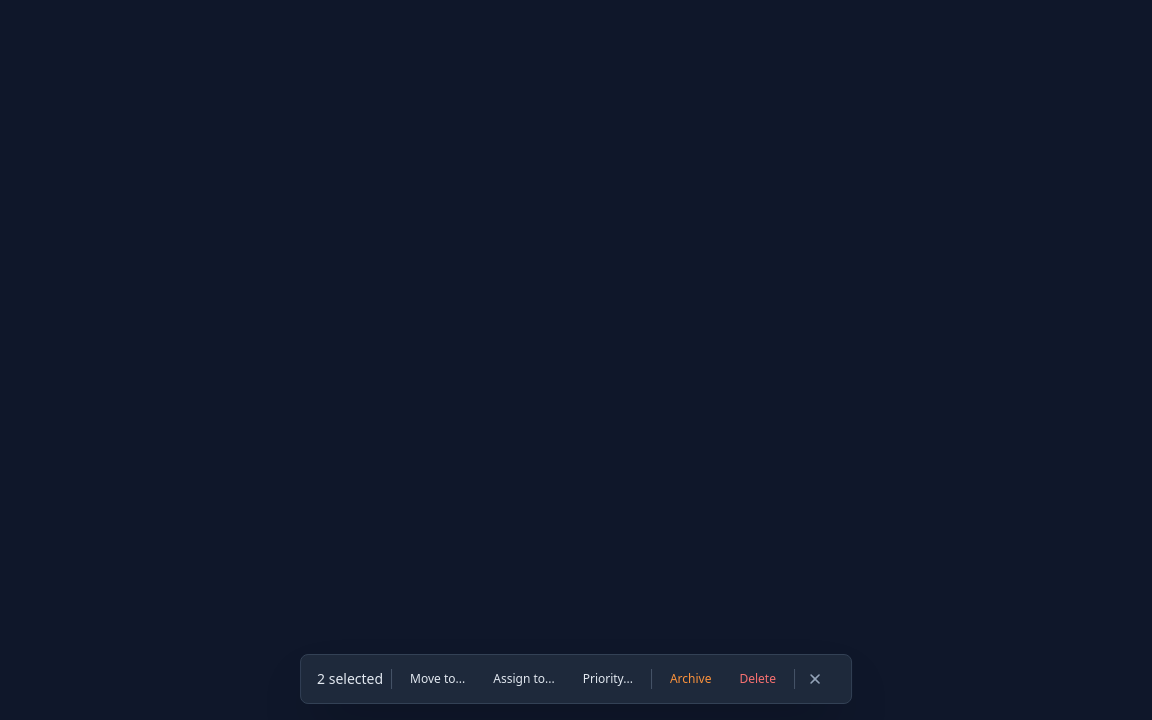
Test: BulkActionToolbar › cancels delete confirmation when Cancel is clicked
Step 1. Click the button "Delete" → [758, 679], box [729,665,786,693]
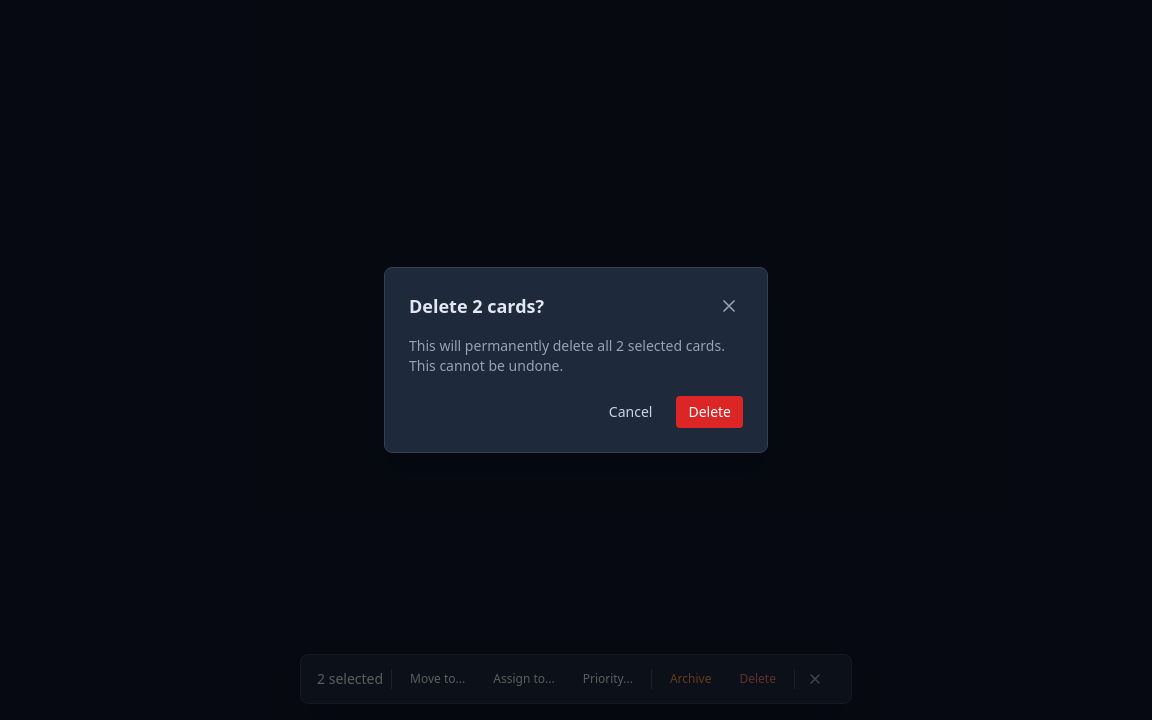
Now the heading "Delete 2 cards?" is shown, box [409,292,544,320]
Step 2. Click the button "Cancel" → [631, 412], box [597,396,664,428]
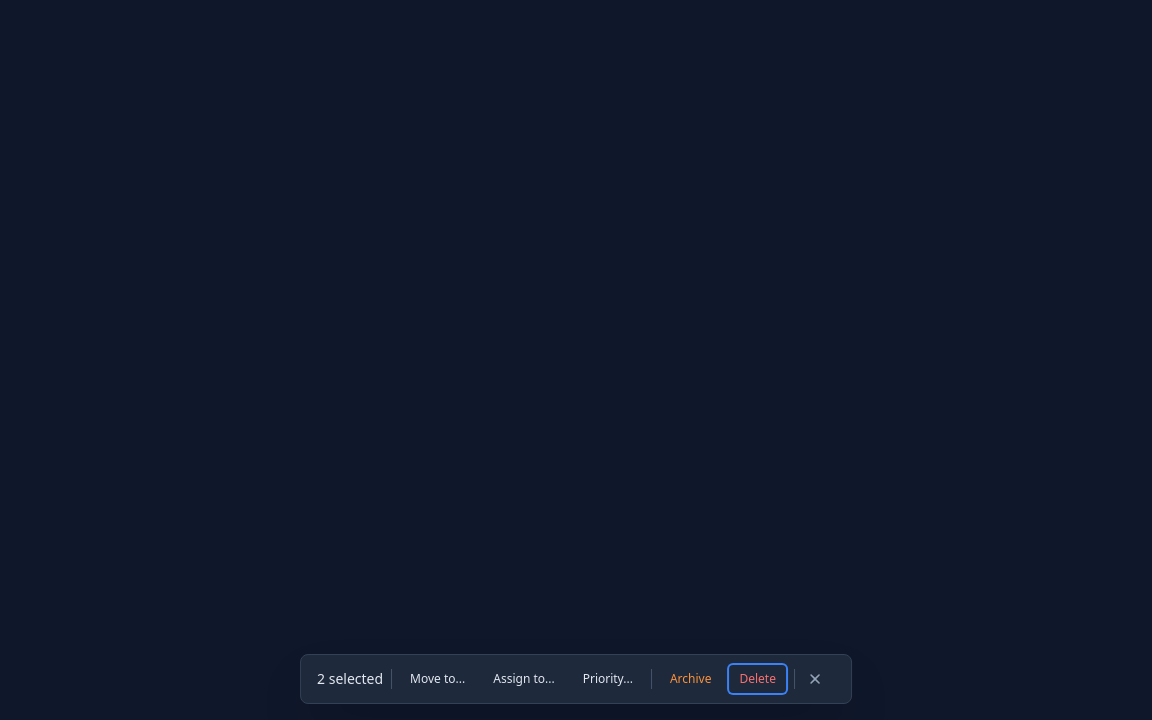
Now the heading "Delete 2 cards?" is gone
